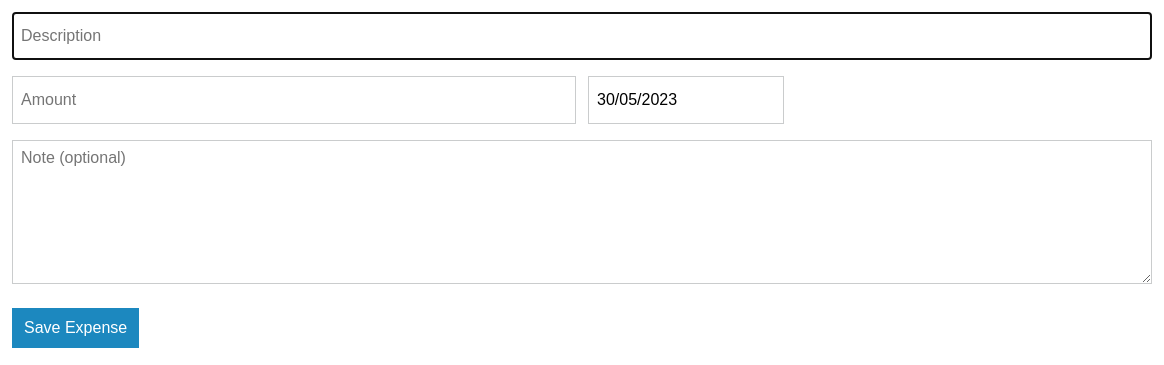
Scenario: ExpenseForm component tests › Should update amount value after user typing incorrect number
Type "ab560..501" into the field with placeholder "Amount".
click(294, 100); type("ab560..501")  # box [12,76,576,124]
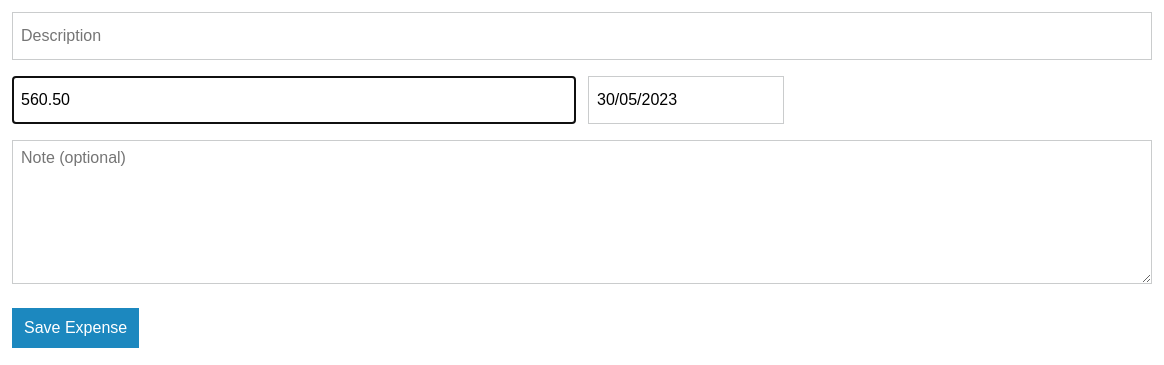
Expected: the 1st field with placeholder "Amount" holds "560.50", [12,76,576,124]
